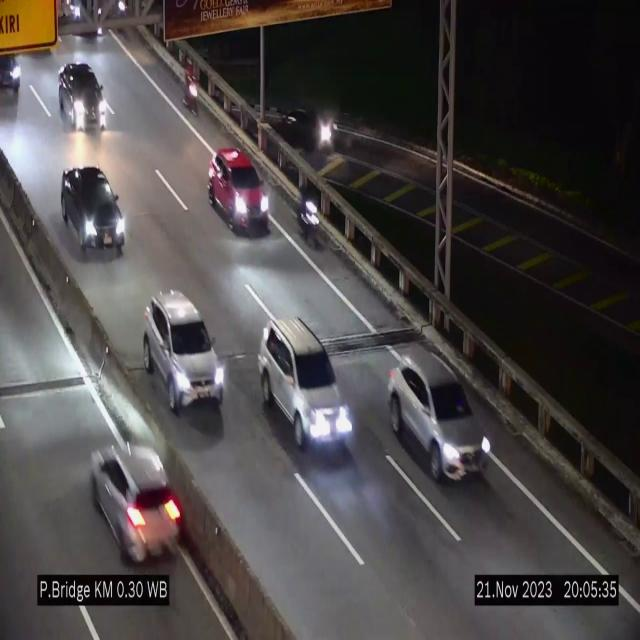Car: (258, 320, 354, 453), (89, 426, 181, 564), (388, 355, 489, 480), (144, 290, 226, 412), (60, 164, 130, 258), (208, 146, 270, 234), (57, 57, 111, 141), (275, 104, 341, 153), (0, 46, 22, 98)
Motorcycle: (300, 181, 324, 250), (182, 60, 204, 126)
